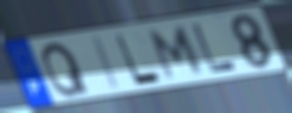8: (231, 13, 274, 70)
I: (91, 34, 124, 92)
L: (112, 32, 166, 87), (190, 22, 240, 74)
M: (147, 24, 206, 82)
Q: (40, 41, 92, 100)
